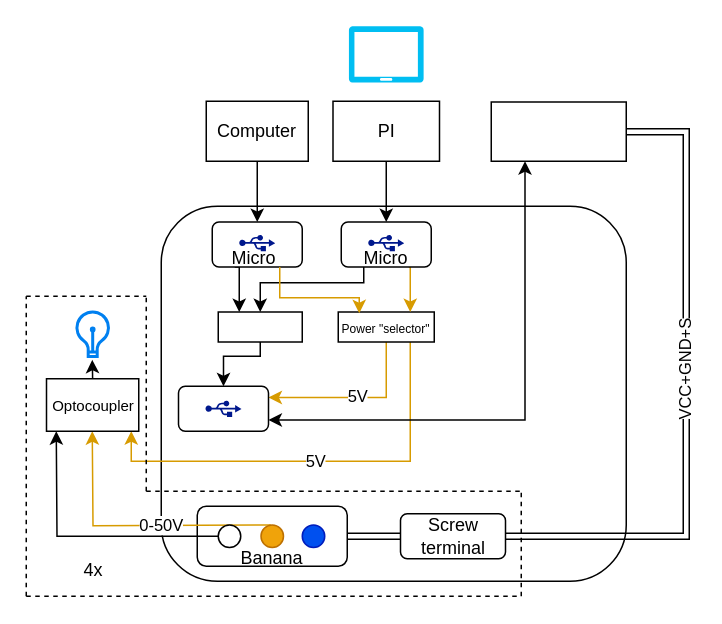
Image size: 722x624. Some labels were removed from this diagram. Here are the shapes that lost their labels. From the top down, the centre of each, then its label:
(x=558, y=130): Power Supply
(x=259, y=326): USB Switch
(x=222, y=408): A Female
